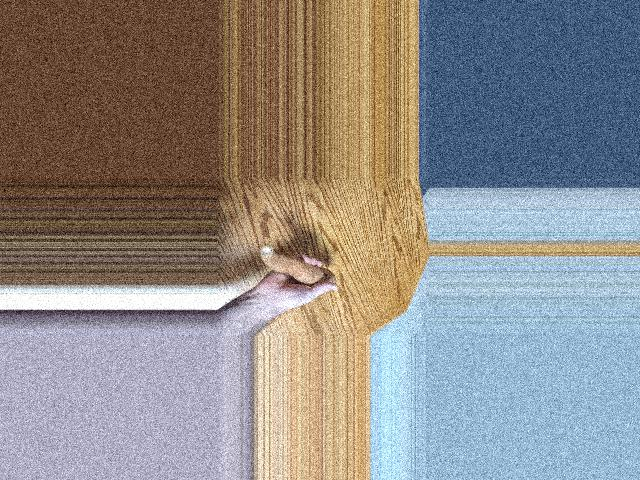sweet_potato: (256, 247, 334, 288)
